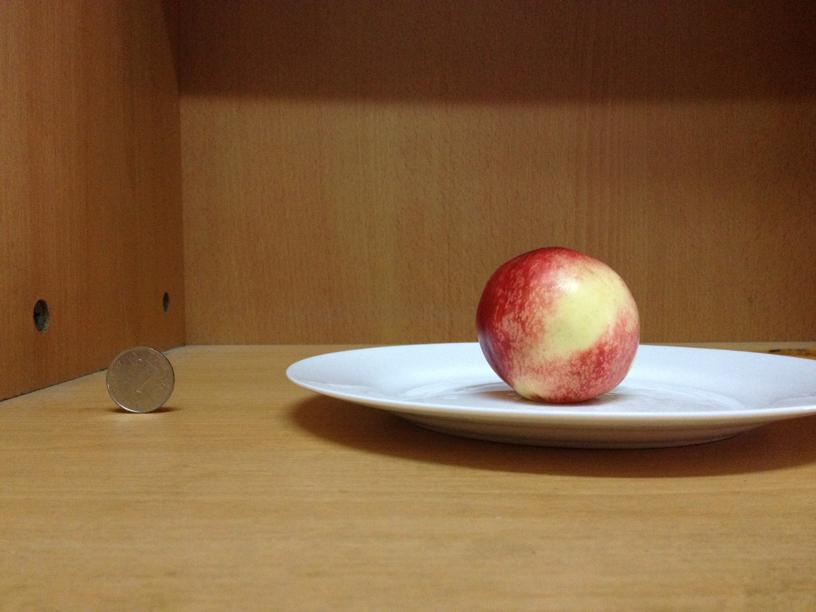coin: (104, 344, 172, 412)
peach: (473, 245, 641, 401)
